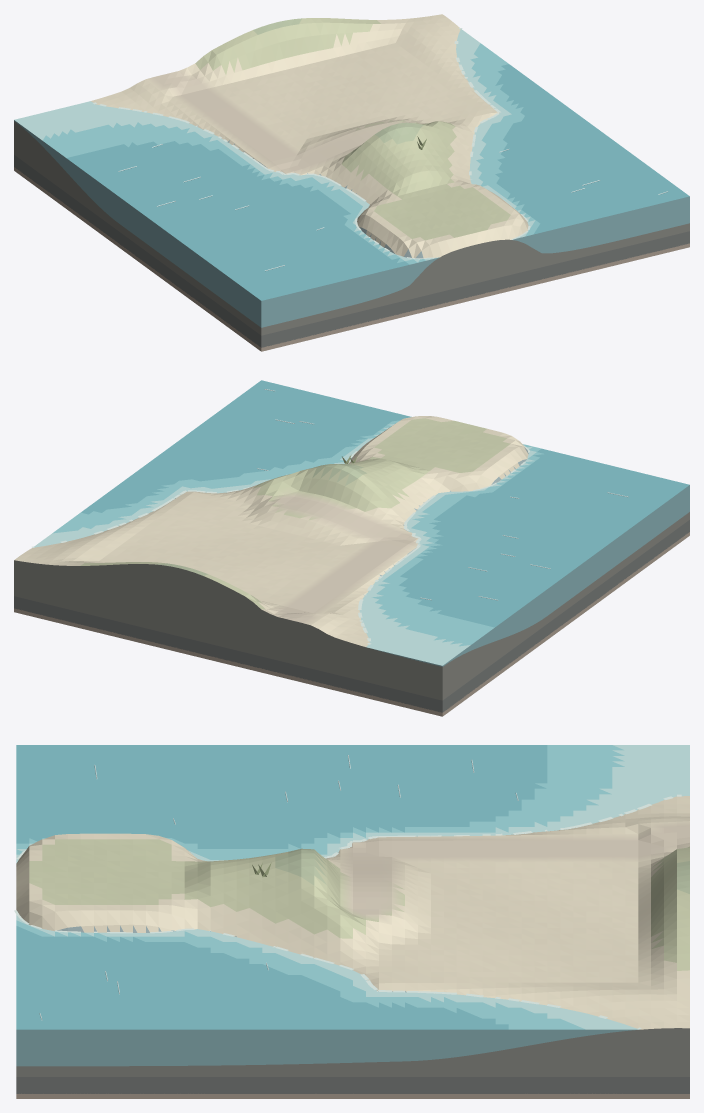
The picture shows the model from 3 angles, top to bottom: view 1: azimuth 30°, elevation 25°; view 2: azimuth 150°, elevation 25°; view 3: azimuth 270°, elevation 25°; orthographic projection. The views are drawn at different scales.
Visible parts, largest first — view 1: proc_water, proc_ground, proc_skirt, proc_water_side, proc_foam; view 2: proc_water, proc_ground, proc_skirt, proc_water_side, proc_foam; view 3: proc_water, proc_ground, proc_skirt, proc_water_side, proc_foam.
Boxes of the visible parts, box(x1,y1,x2,y2) form: proc_water: box(14, 29, 689, 300); proc_ground: box(91, 14, 528, 258); proc_skirt: box(14, 121, 689, 351); proc_water_side: box(14, 120, 689, 327); proc_foam: box(93, 28, 530, 259); proc_water: box(34, 380, 689, 665); proc_ground: box(14, 416, 528, 646); proc_skirt: box(14, 512, 689, 716); proc_water_side: box(369, 485, 689, 666); proc_foam: box(32, 445, 529, 644); proc_water: box(16, 745, 689, 1029); proc_ground: box(16, 796, 689, 1029); proc_skirt: box(16, 1028, 689, 1098); proc_water_side: box(16, 1029, 638, 1066); proc_foam: box(14, 794, 681, 1029).
Bounding box in the file's own units: 8.02 × 1.57 × 8.03.
